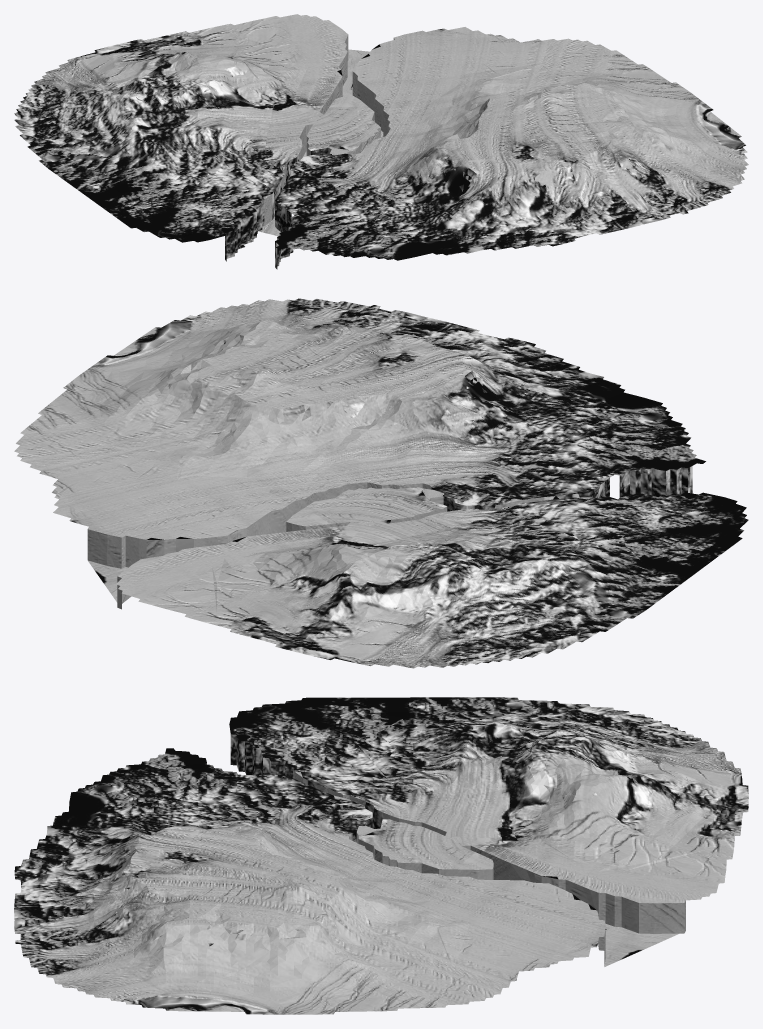
The model's file is antarctica_plane_1.fbx.
The picture shows the model from 3 angles, top to bottom: view 1: azimuth 30°, elevation 25°; view 2: azimuth 150°, elevation 25°; view 3: azimuth 270°, elevation 25°; orthographic projection. The views are drawn at different scales.
Parts seen in each view (by area): view 1: Landscape.002; view 2: Landscape.002; view 3: Landscape.002.
Part boxes in pixels (x1,y1,x2,y2): Landscape.002: [14, 14, 748, 269]; Landscape.002: [14, 298, 748, 668]; Landscape.002: [14, 697, 748, 1014].
Size of the model in its own units: 90706 by 9848 by 88735.
